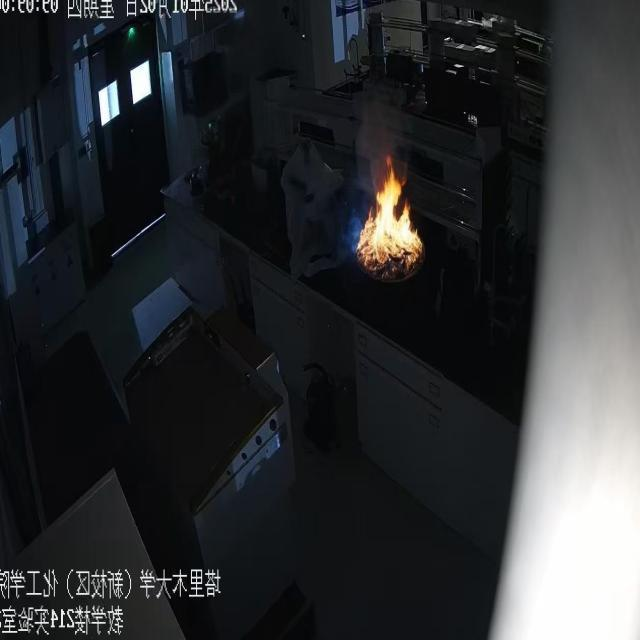fire: (356, 86, 406, 180)
smoke: (356, 152, 423, 270)
